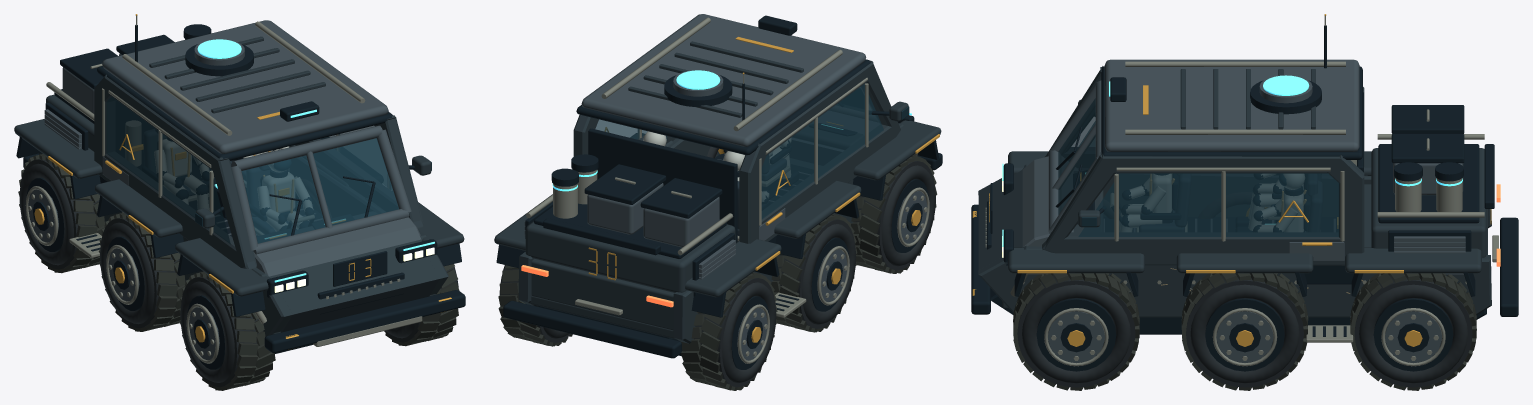
The model's file is avaris-nomad-03.glb.
The picture shows the model from 3 angles, left to right: view 1: azimuth 30°, elevation 25°; view 2: azimuth 150°, elevation 25°; view 3: azimuth 270°, elevation 25°; orthographic projection. The views are drawn at different scales.
Visible parts, largest first — view 1: Removable roof, Forward pressure windshield, Tyres / dusty elastomer (×6), Recesses / blue black (×13), Upper panels / mineral grey (×9), Armored wheel brow (×4), Side panoramic window (×2), Forward hull outside footwell, Pressure cabin lower sill (×2), Exposed machined edges (×8), Sloped nose armor, Front impact bumper (+16 smaller); view 2: Removable roof, Recesses / blue black (×15), Tyres / dusty elastomer (×6), Armored wheel brow (×4), Side panoramic window (×2), Rear service deck, Rear pressure bulkhead, Exposed machined edges (×9), Rear equipment foundation, Sealed sample case (×2), Rear impact bumper, Pressure cabin lower sill (+14 smaller); view 3: Tyres / dusty elastomer (×7), Recesses / blue black (×14), Removable roof, Side panoramic window, Lower hull sidewall (×2), Upper panels / mineral grey (×10), Armored wheel brow (×4), Exposed machined edges (×9), Pressure cabin lower sill, Upper window frame, Forward hull outside footwell, Rear service deck (+16 smaller).
Part boxes in pixels (left/top/right/bottom): Removable roof: left=102, top=20, right=388, bottom=153; Forward pressure windshield: left=241, top=138, right=398, bottom=243; Tyres / dusty elastomer (×6): left=19, top=159, right=272, bottom=387; Recesses / blue black (×13): left=26, top=34, right=461, bottom=369; Upper panels / mineral grey (×9): left=28, top=39, right=411, bottom=360; Armored wheel brow (×4): left=14, top=118, right=464, bottom=296; Side panoramic window (×2): left=106, top=96, right=392, bottom=244; Forward hull outside footwell: left=272, top=240, right=439, bottom=332; Pressure cabin lower sill (×2): left=94, top=139, right=423, bottom=268; Exposed machined edges (×8): left=25, top=21, right=422, bottom=363; Sloped nose armor: left=253, top=217, right=421, bottom=276; Front impact bumper: left=264, top=290, right=465, bottom=352; Removable roof: left=581, top=14, right=866, bottom=146; Recesses / blue black (×15): left=496, top=75, right=928, bottom=369; Tyres / dusty elastomer (×6): left=694, top=161, right=935, bottom=387; Armored wheel brow (×4): left=494, top=120, right=941, bottom=297; Side panoramic window (×2): left=595, top=84, right=883, bottom=219; Rear service deck: left=525, top=221, right=735, bottom=292; Rear pressure bulkhead: left=588, top=128, right=737, bottom=242; Exposed machined edges (×9): left=553, top=17, right=929, bottom=363; Rear equipment foundation: left=531, top=258, right=674, bottom=330; Sealed sample case (×2): left=587, top=183, right=719, bottom=247; Rear impact bumper: left=503, top=300, right=681, bottom=358; Pressure cabin lower sill: left=739, top=124, right=900, bottom=243; Tyres / dusty elastomer (×7): left=1017, top=192, right=1472, bottom=387; Recesses / blue black (×14): left=1036, top=80, right=1494, bottom=371; Removable roof: left=1104, top=59, right=1359, bottom=151; Side panoramic window: left=1078, top=173, right=1339, bottom=236; Lower hull sidewall (×2): left=978, top=164, right=1491, bottom=317; Upper panels / mineral grey (×10): left=1048, top=75, right=1465, bottom=363; Armored wheel brow (×4): left=1008, top=151, right=1481, bottom=273; Exposed machined edges (×9): left=1044, top=61, right=1484, bottom=366; Pressure cabin lower sill: left=1042, top=232, right=1364, bottom=265; Upper window frame: left=1100, top=152, right=1342, bottom=173; Forward hull outside footwell: left=978, top=171, right=1022, bottom=269; Rear service deck: left=1371, top=148, right=1486, bottom=257.
Size of the model in its own units: 3.4 by 3.71 by 6.4.
